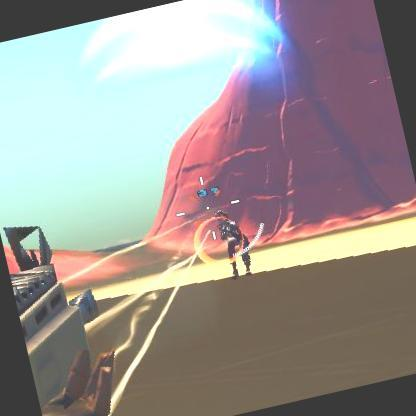person: (206, 209, 256, 273)
